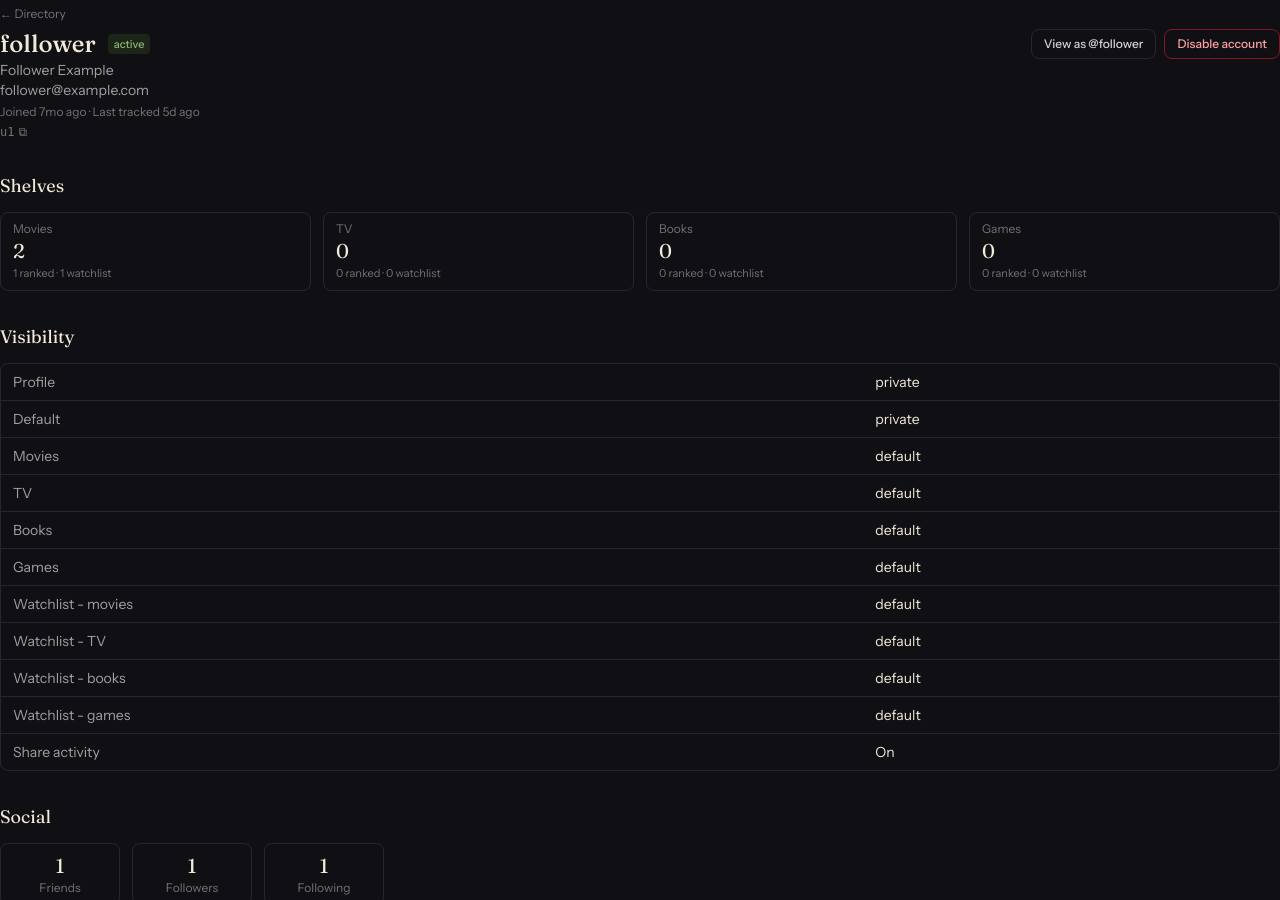
AdminUserDetailView › opens the inline confirmation dialog on Disable, naming the target by handle
The image size is (1280, 900).
Click the button "Disable account". click: point(1222, 44)
box: [1164,29,1279,59]
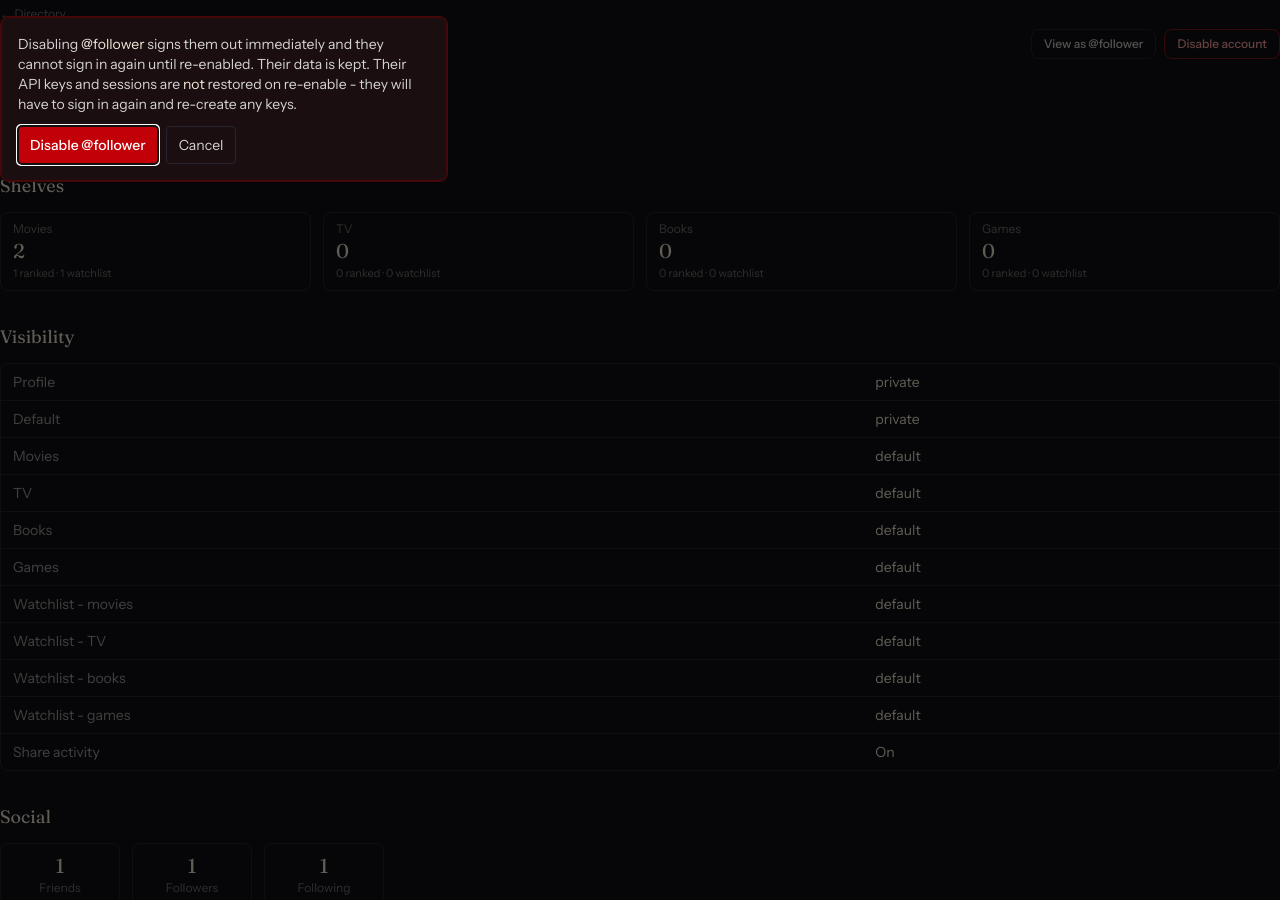
Check: the text "signs them out immediately" is shown, box [18,35,407,93]
Check: the button "Disable @follower" is shown, box [18,126,158,164]
